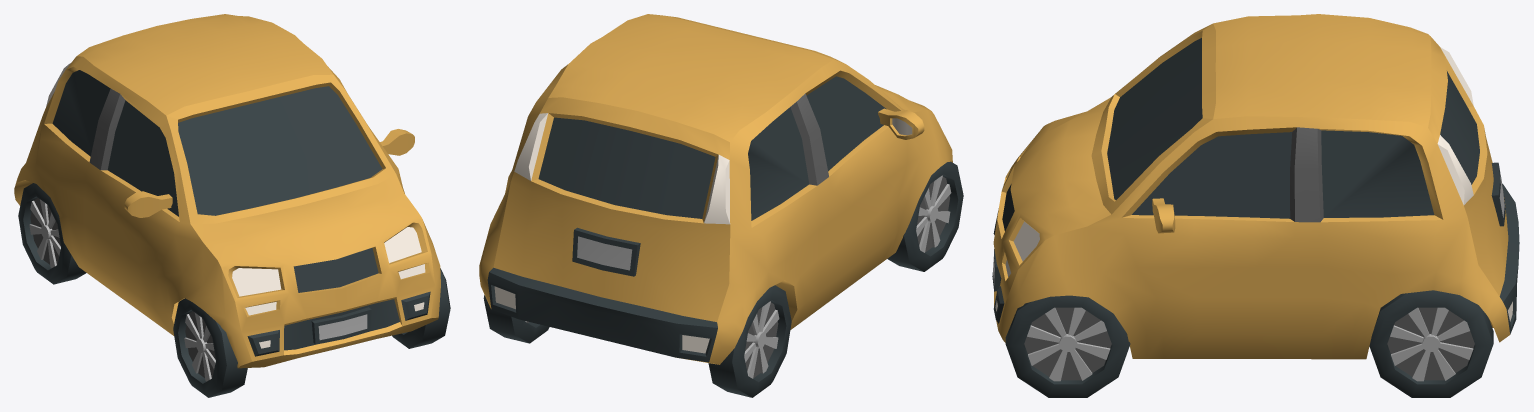
The model's file is Car_02.fbx.
3 views of the same model, side by side, from view 1: azimuth 30°, elevation 25°; view 2: azimuth 150°, elevation 25°; view 3: azimuth 270°, elevation 25° (orthographic). The views are drawn at different scales.
Parts seen in each view (by area): view 1: Car_02; view 2: Car_02; view 3: Car_02.
Boxes of the visible parts, left/top/right/bottom form: Car_02: left=14, top=14, right=450, bottom=397; Car_02: left=479, top=14, right=963, bottom=397; Car_02: left=992, top=14, right=1519, bottom=397.
Size of the model in its own units: 0.178 by 0.138 by 0.2414.
